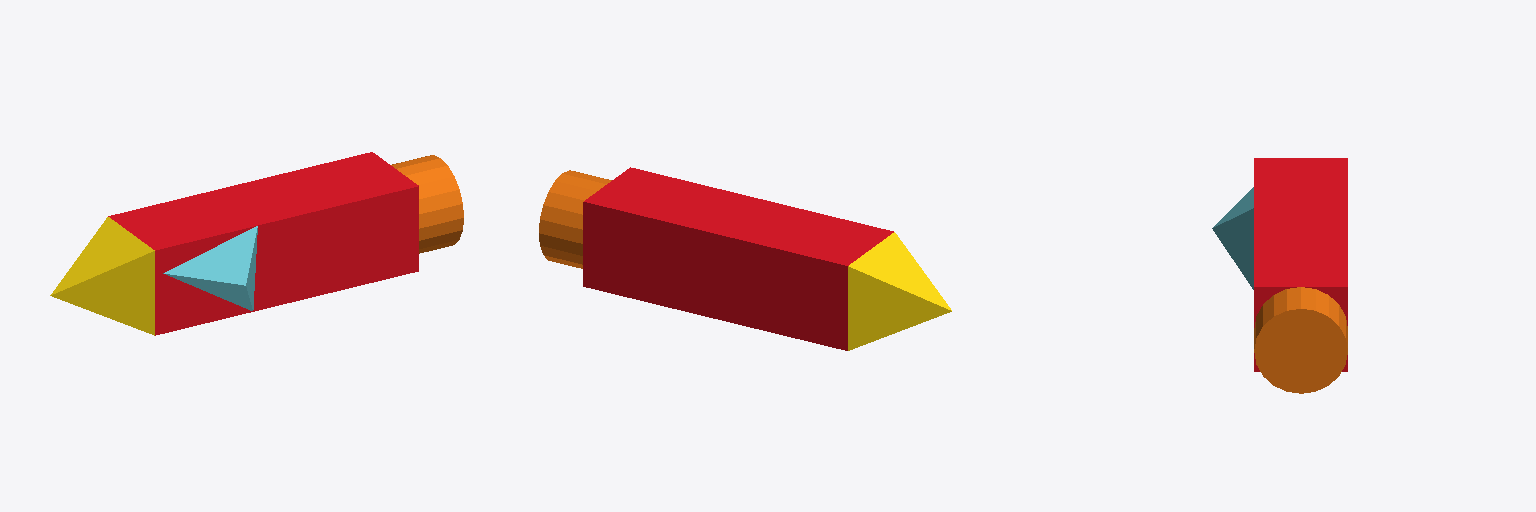
Rendered from tinker.obj.
3 views of the same model, side by side, from view 1: azimuth 30°, elevation 25°; view 2: azimuth 150°, elevation 25°; view 3: azimuth 270°, elevation 25° (orthographic).
Parts seen in each view (by area): view 1: obj_0; view 2: obj_0; view 3: obj_0.
Part boxes in pixels (left/top/right/bottom): obj_0: left=50, top=152, right=463, bottom=335; obj_0: left=539, top=167, right=951, bottom=350; obj_0: left=1212, top=158, right=1347, bottom=393.
Bounding box in the file's own units: 96 × 20 × 29.